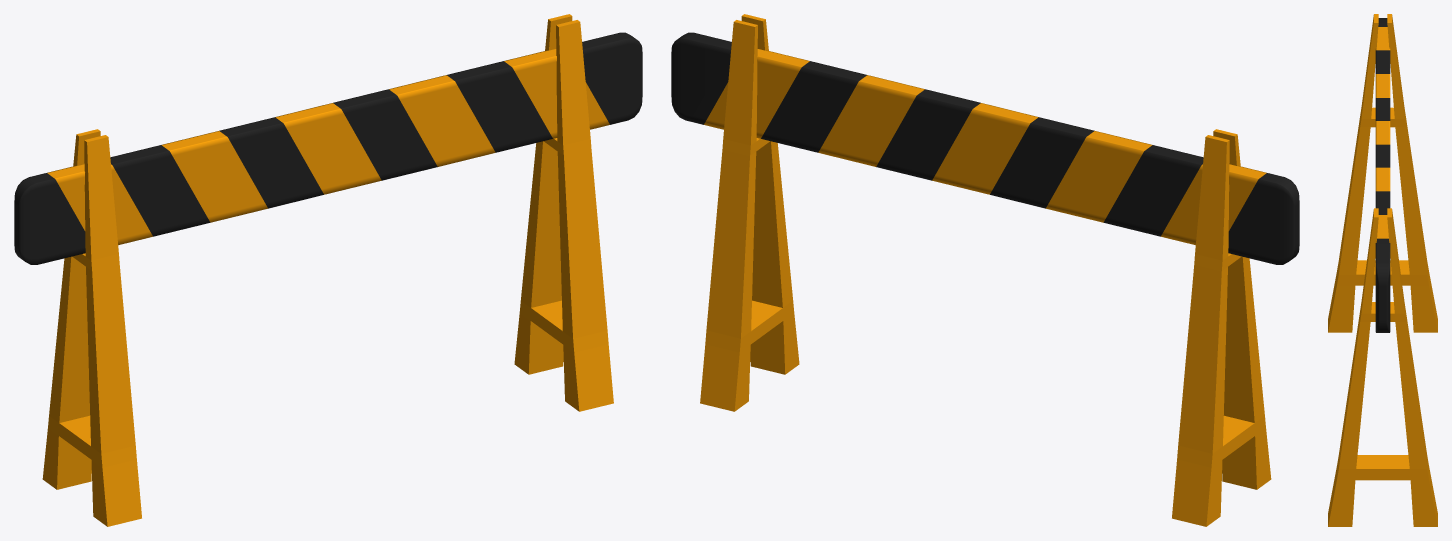
The model's file is road_barrier.glb.
3 views of the same model, side by side, from view 1: azimuth 30°, elevation 25°; view 2: azimuth 150°, elevation 25°; view 3: azimuth 270°, elevation 25° (orthographic). The views are drawn at different scales.
Visible parts, largest first — view 1: Cube.002, Cube; view 2: Cube.002, Cube; view 3: Cube, Cube.002.
Boxes of the visible parts, bbox=[...] form: Cube.002: bbox=[14, 32, 642, 264]; Cube: bbox=[42, 14, 613, 526]; Cube.002: bbox=[671, 32, 1299, 264]; Cube: bbox=[700, 14, 1271, 526]; Cube: bbox=[1328, 14, 1437, 526]; Cube.002: bbox=[1375, 18, 1390, 332].
Bounding box in the file's own units: 2.23 × 1.24 × 0.4029.
Materials: 1 (1 with a texture image).
